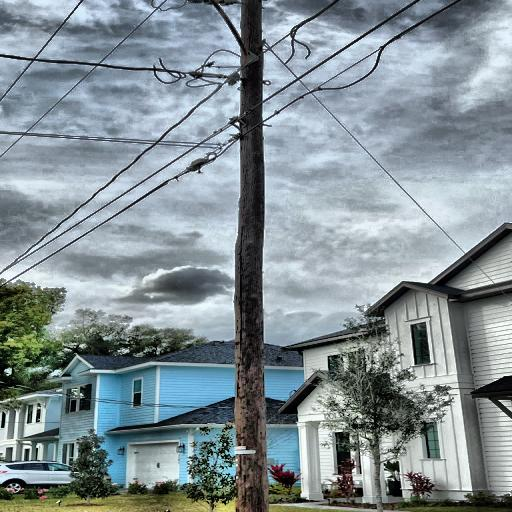pole: (240, 0, 270, 512)
street light: (154, 0, 262, 68)
